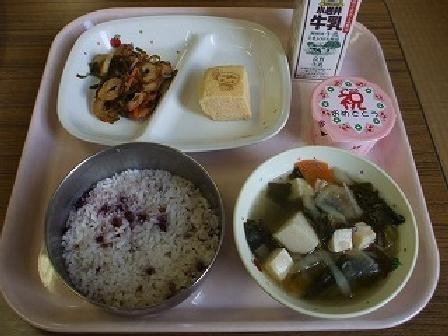Cup desserts: (305, 71, 395, 157)
Milk: (283, 0, 359, 93)
Rice: (44, 142, 214, 307)
cheese: (175, 49, 270, 139)
salad with sauce: (73, 37, 176, 127)
vegetable soup: (236, 150, 410, 307)
